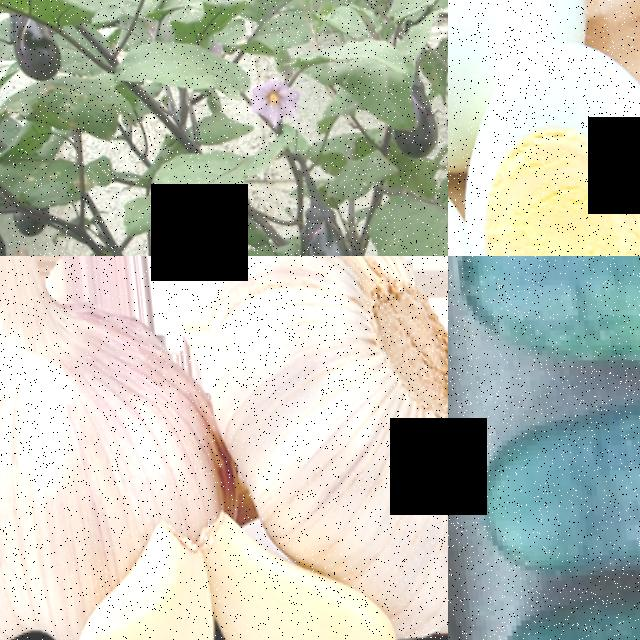cucumber: (456, 385, 640, 588), (448, 256, 640, 376)
egg_: (448, 63, 640, 256), (448, 0, 591, 69)
eggplant: (4, 9, 60, 80), (289, 198, 342, 256)
garlic: (198, 256, 448, 539), (0, 256, 217, 541), (40, 519, 217, 640), (205, 553, 389, 640)
